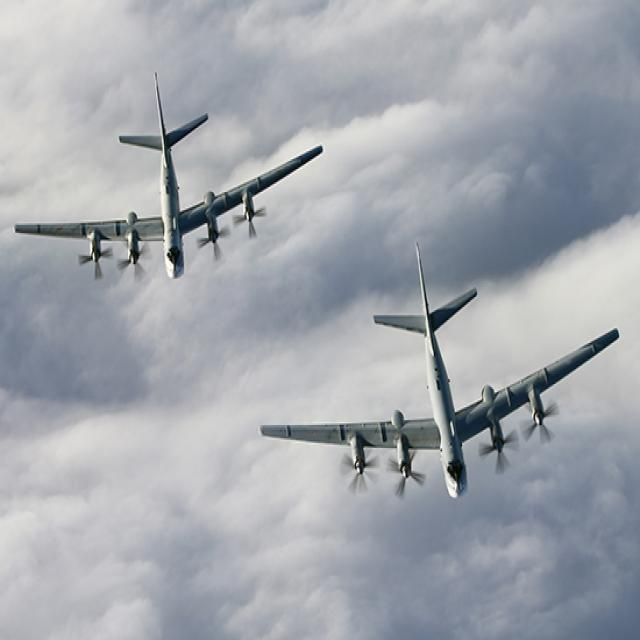MIL_Plane: (258, 239, 618, 499), (14, 69, 325, 279)
